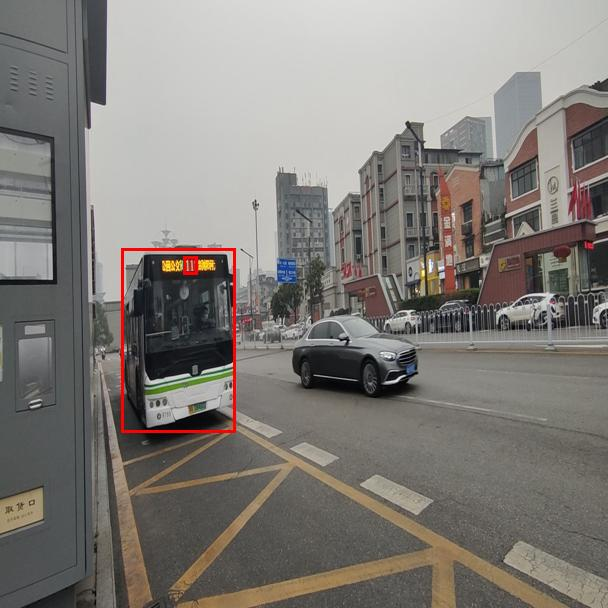bus: (121, 248, 235, 432)
screen: (183, 256, 197, 274)
